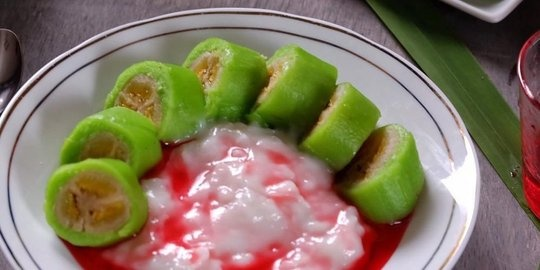pisang_ijo: (36, 153, 162, 257)
